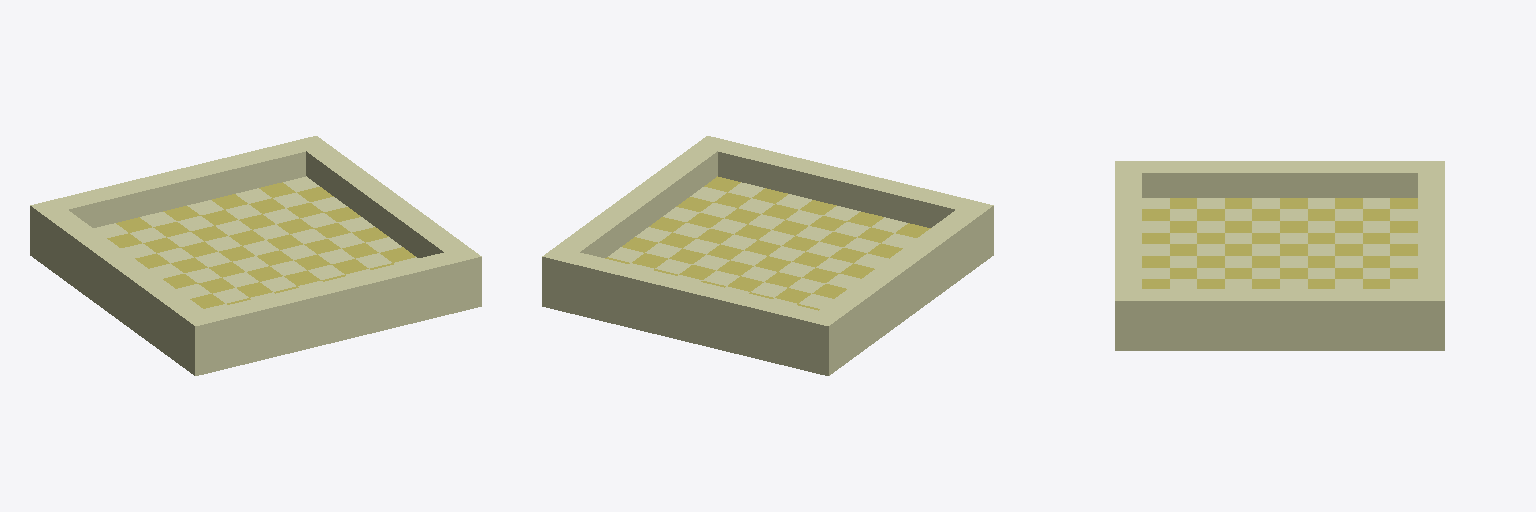
The model's file is groundBox.obj.
3 renders of one model, left to right at view 1: azimuth 30°, elevation 25°; view 2: azimuth 150°, elevation 25°; view 3: azimuth 270°, elevation 25°, orthographic.
Parts seen in each view (by area): view 1: groundBox.obj; view 2: groundBox.obj; view 3: groundBox.obj.
Part boxes in pixels (x1,y1,x2,y2): groundBox.obj: (30, 136, 481, 375); groundBox.obj: (542, 136, 993, 375); groundBox.obj: (1115, 161, 1444, 350).
Size of the model in its own units: 120 by 20 by 120.